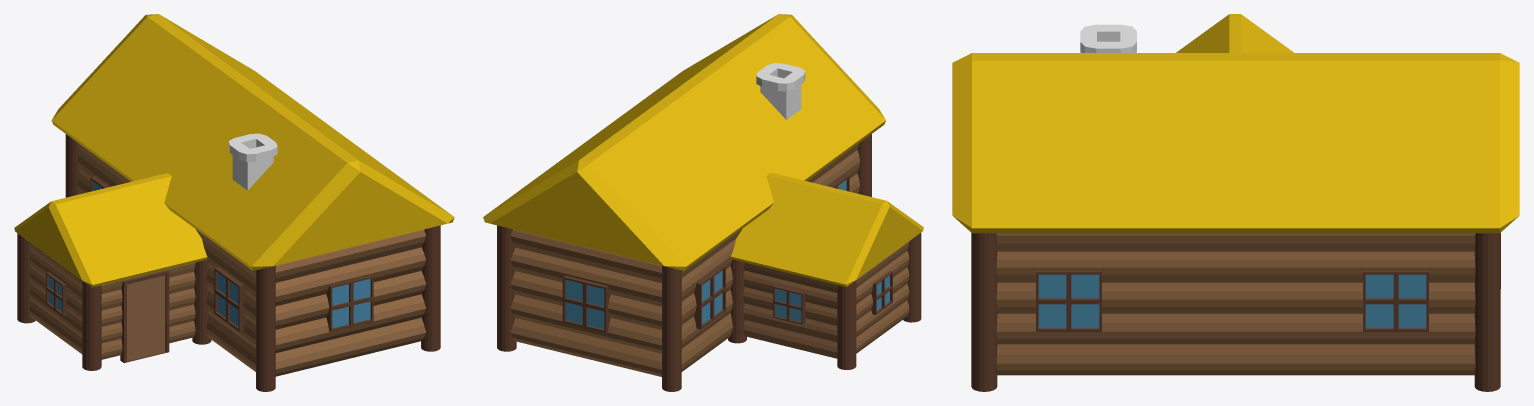
File: BigHouse.dae
3 views of the same model, side by side, from view 1: azimuth 30°, elevation 25°; view 2: azimuth 150°, elevation 25°; view 3: azimuth 270°, elevation 25° (orthographic). The views are drawn at different scales.
Parts seen in each view (by area): view 1: Cube; view 2: Cube; view 3: Cube.
Boxes of the visible parts, bbox=[...] form: Cube: bbox=[14, 14, 454, 391]; Cube: bbox=[483, 14, 923, 391]; Cube: bbox=[952, 14, 1519, 391].
Bounding box in the file's own units: 3.71 × 4.51 × 2.43.
2 materials, 1 textured.
